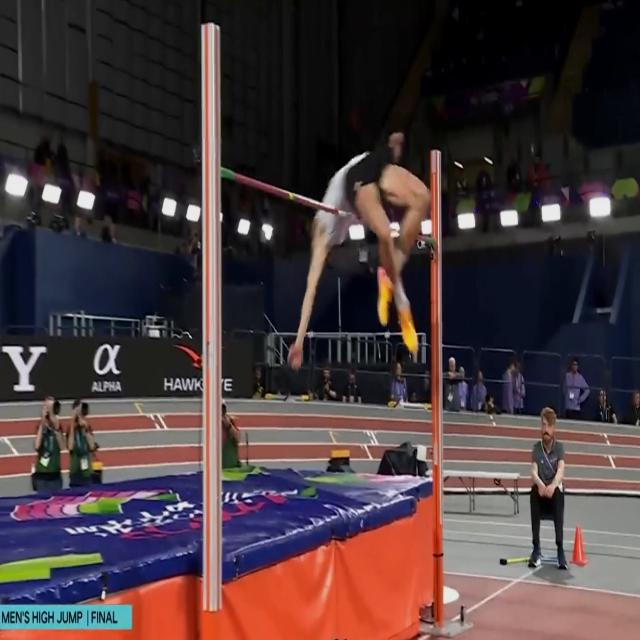jump: (290, 129, 431, 365)
